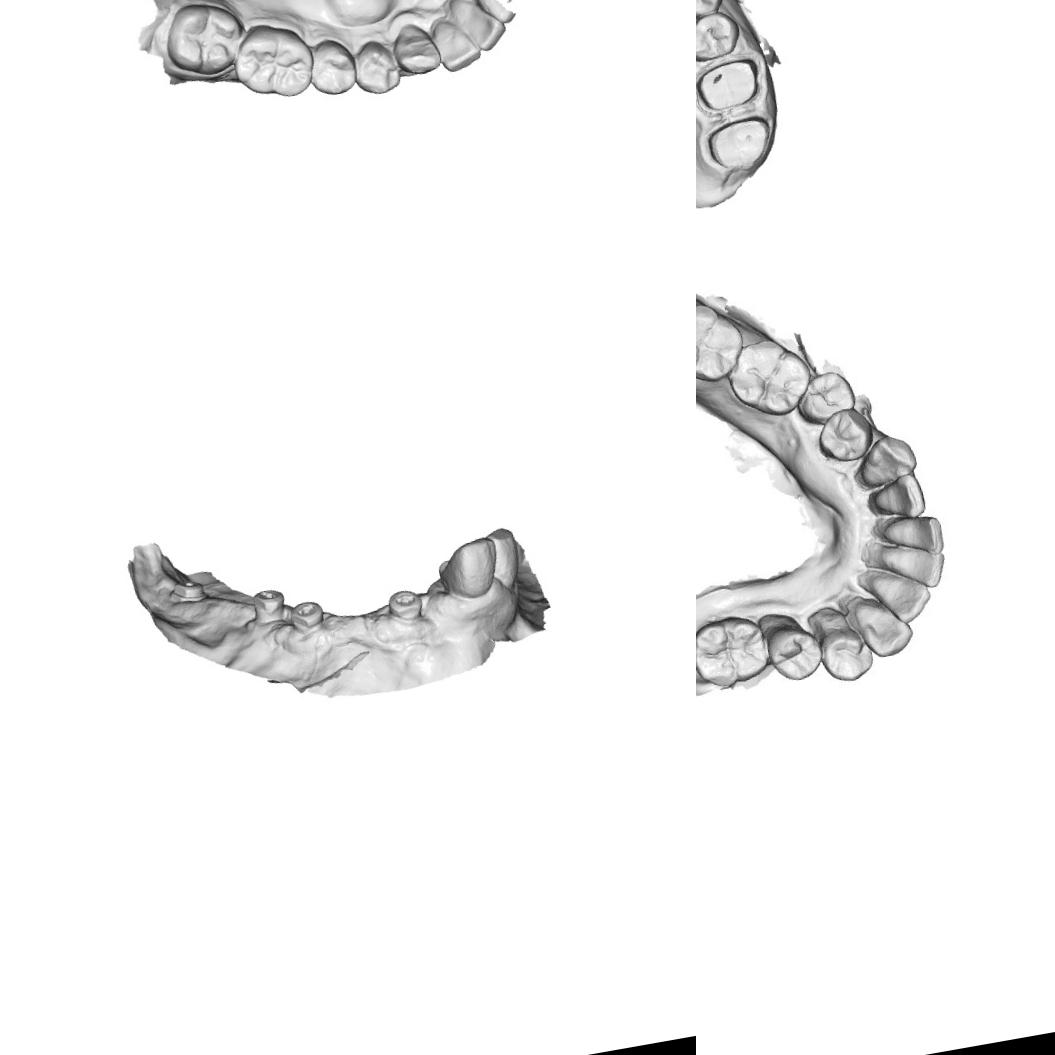canine: (846, 582, 914, 661), (852, 430, 920, 490), (389, 18, 444, 80)
crown: (700, 112, 776, 175), (696, 54, 763, 115)
implant: (164, 574, 209, 608)
implant_minus: (248, 584, 289, 626), (384, 585, 426, 624), (285, 596, 327, 633)
incisor: (432, 532, 504, 604), (865, 557, 933, 630), (876, 539, 946, 597), (447, 0, 511, 59), (430, 10, 484, 76), (865, 469, 928, 525), (876, 506, 941, 558)
molar: (224, 14, 322, 108), (723, 332, 814, 423), (157, 0, 253, 82), (696, 608, 775, 694), (696, 295, 749, 390)
premolar: (760, 616, 826, 685), (299, 31, 364, 100), (792, 365, 856, 428), (347, 33, 406, 100), (812, 404, 872, 469), (821, 620, 874, 684), (696, 8, 744, 66)
